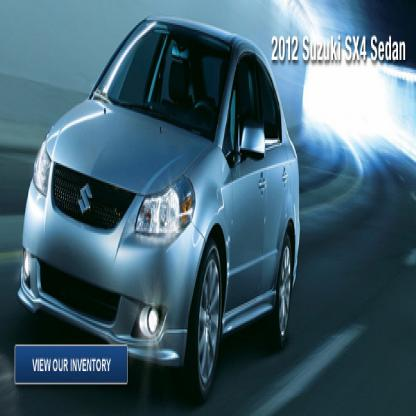Vehicle: (21, 15, 302, 406)
